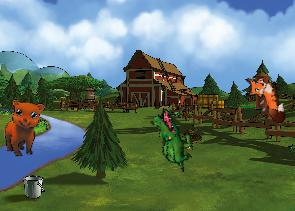bear: (4, 98, 46, 157)
crocodile: (139, 106, 206, 173)
fox: (241, 70, 288, 129)
